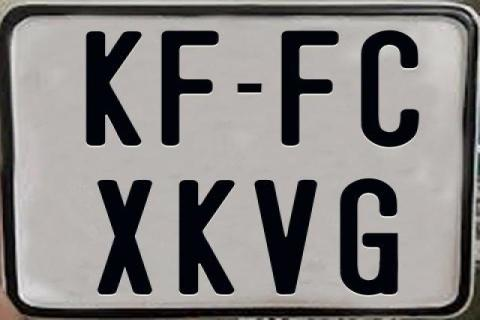C: (360, 30, 419, 152)
F: (279, 28, 342, 148), (158, 31, 222, 146)
G: (338, 177, 396, 297)
K: (178, 180, 237, 298), (85, 31, 142, 148)
V: (252, 178, 318, 296)
X: (97, 179, 152, 297)
